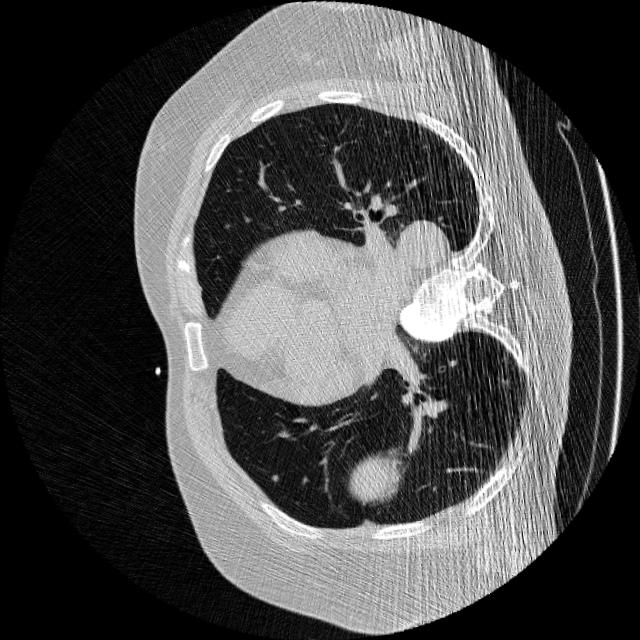nodule: (264, 468, 284, 488)
